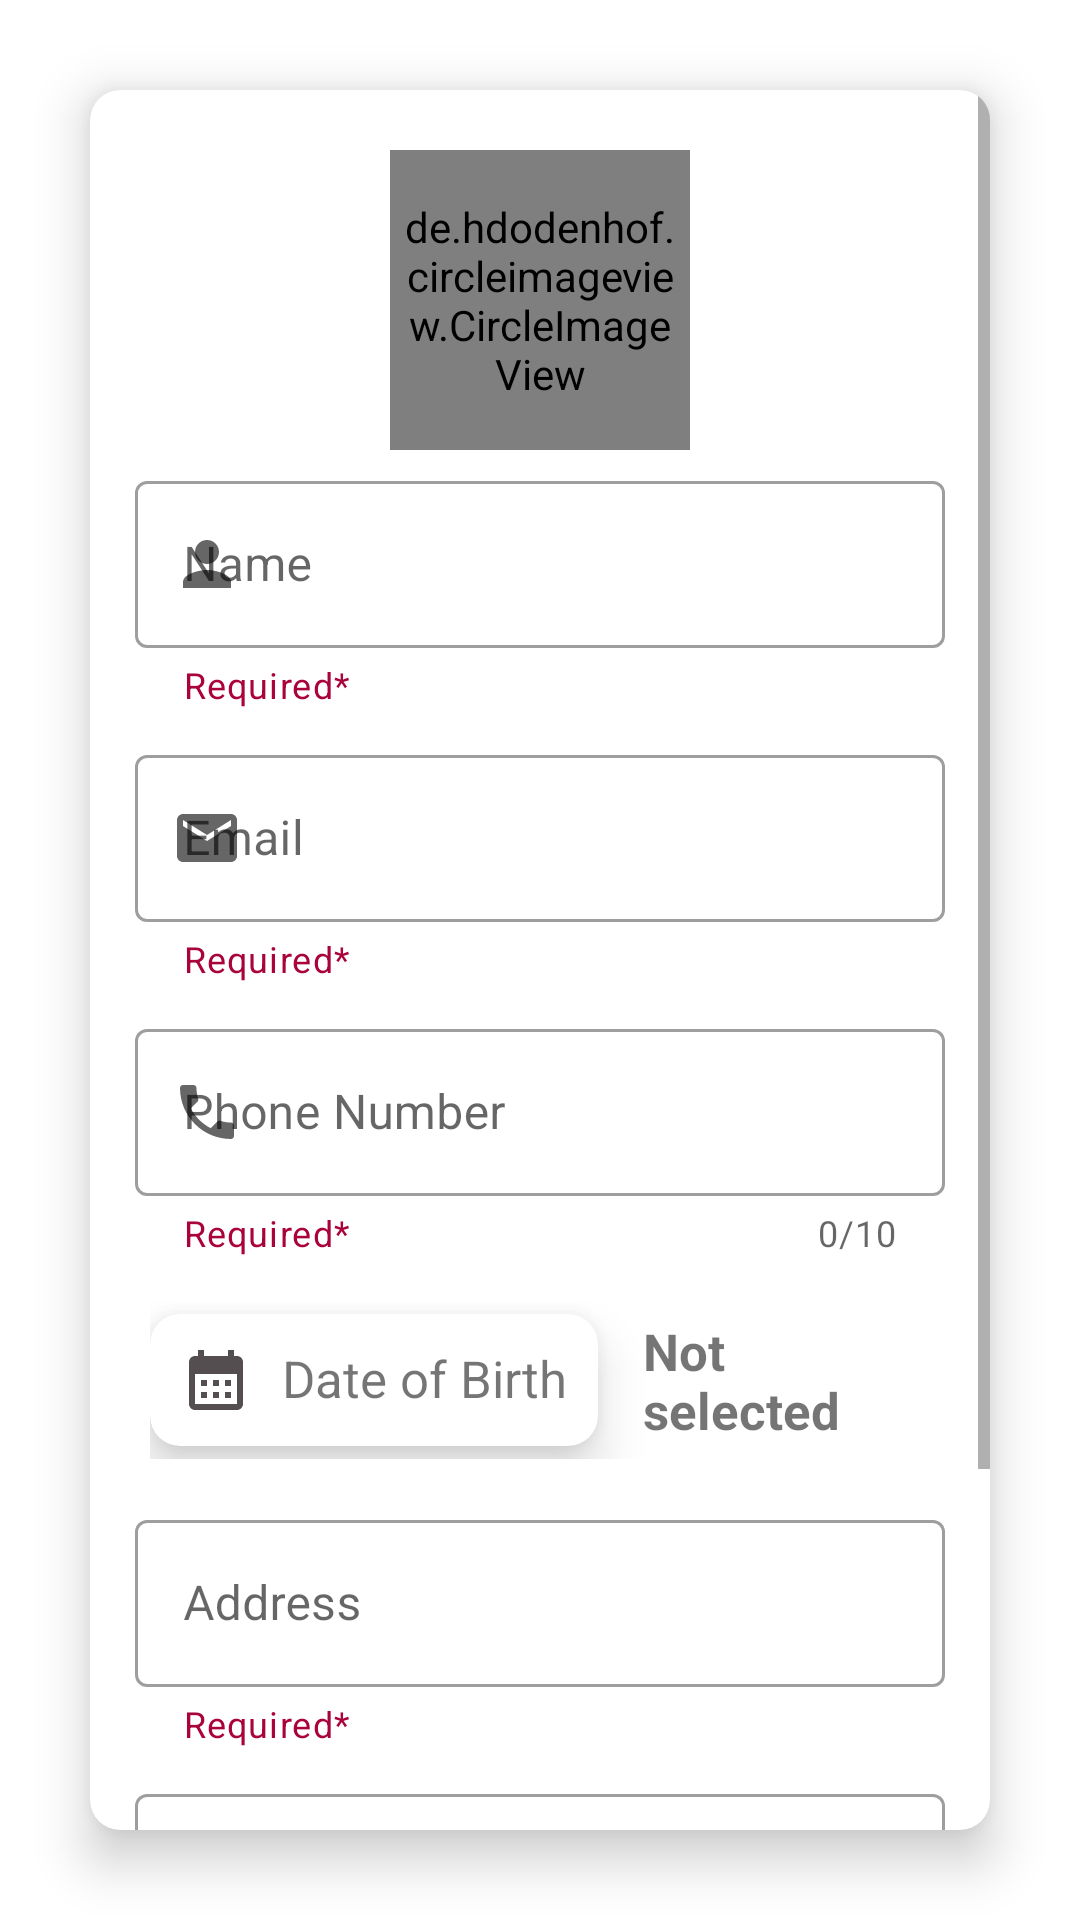

Screen size 1080w x 1920h. Icon name, then its center in pixels as (x=x, y=y):
profile dob: (x=216, y=1380)
